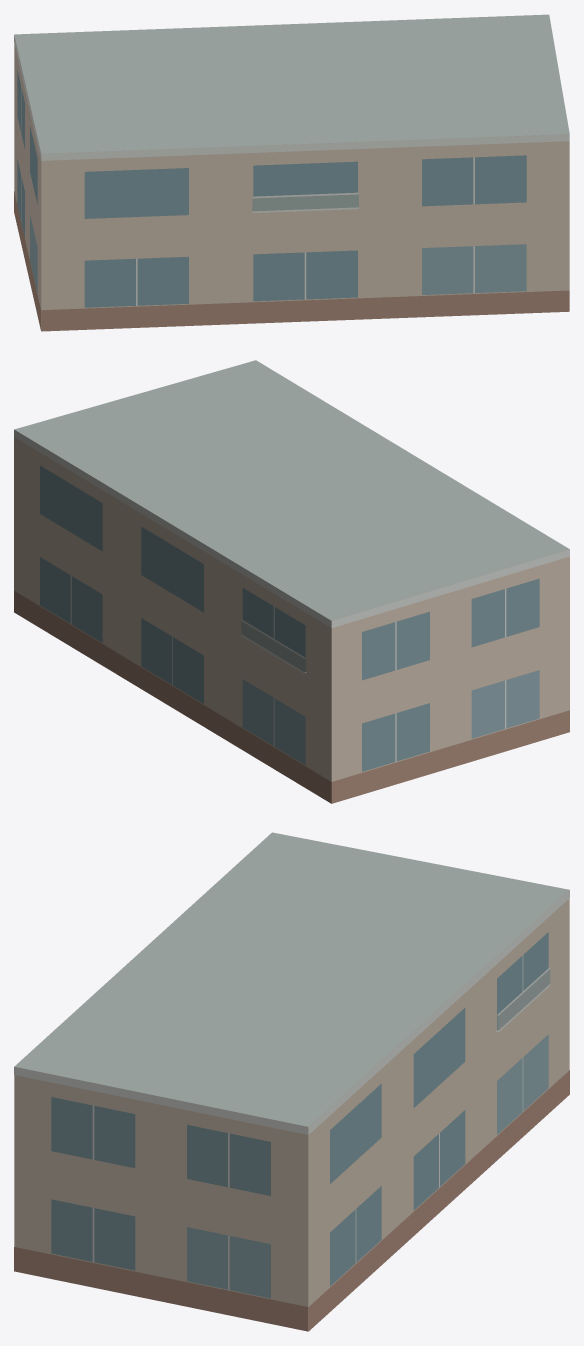
Rendered from survey-upis-32602269.glb.
3 views of the same model, one above another, from view 1: azimuth 30°, elevation 25°; view 2: azimuth 150°, elevation 25°; view 3: azimuth 270°, elevation 25° (orthographic). The views are drawn at different scales.
Parts seen in each view (by area): view 1: survey-upis-32602269.tmp; view 2: survey-upis-32602269.tmp; view 3: survey-upis-32602269.tmp.
Part boxes in pixels (<box>): survey-upis-32602269.tmp: <box>14,14,569,331</box>; survey-upis-32602269.tmp: <box>14,360,569,803</box>; survey-upis-32602269.tmp: <box>14,832,569,1331</box>.
Size of the model in its own units: 18.84 by 6.1 by 15.02.
